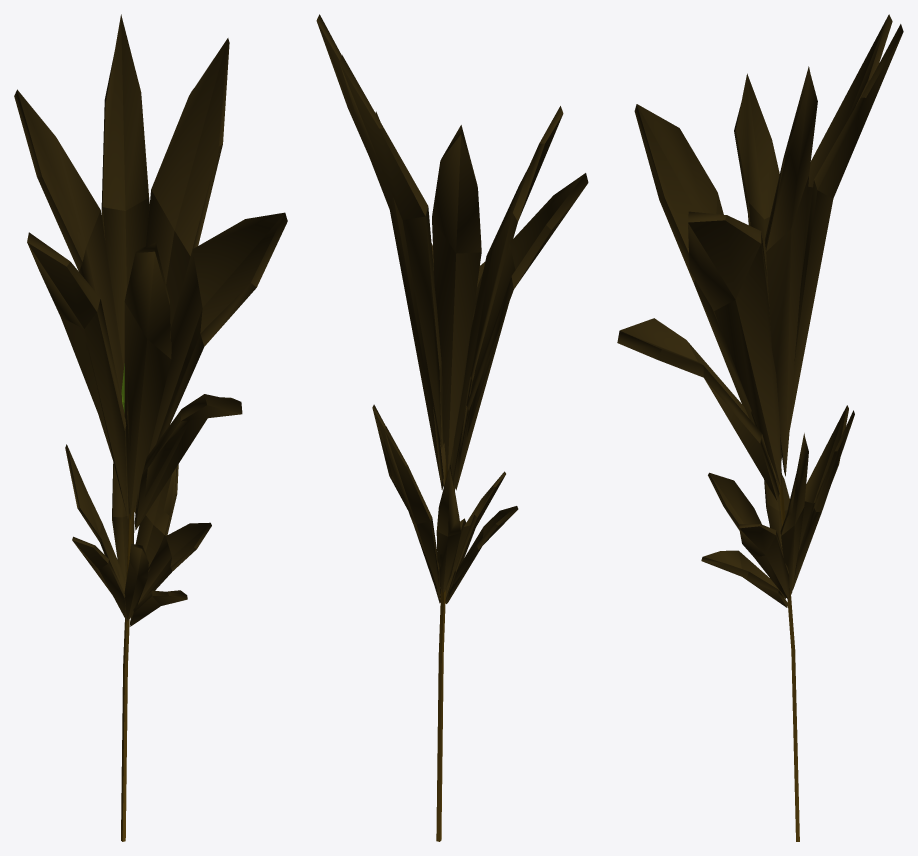
File: Flower_1.002.fbx
The picture shows the model from 3 angles, left to right: view 1: azimuth 30°, elevation 25°; view 2: azimuth 150°, elevation 25°; view 3: azimuth 270°, elevation 25°; orthographic projection. The views are drawn at different scales.
Parts seen in each view (by area): view 1: Flower_1.002; view 2: Flower_1.002; view 3: Flower_1.002.
Part boxes in pixels (left/top/right/bottom): Flower_1.002: left=14, top=14, right=287, bottom=841; Flower_1.002: left=316, top=14, right=588, bottom=841; Flower_1.002: left=617, top=14, right=903, bottom=841.
Bounding box in the file's own units: 18.64 × 59.54 × 18.36.
